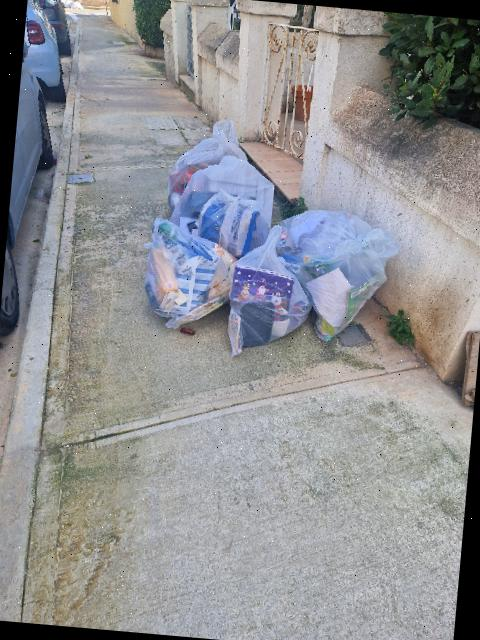Recyclable -Grey-: (279, 210, 400, 341), (228, 224, 311, 354), (144, 218, 236, 328), (169, 155, 273, 238), (167, 119, 245, 212), (197, 189, 268, 257)
